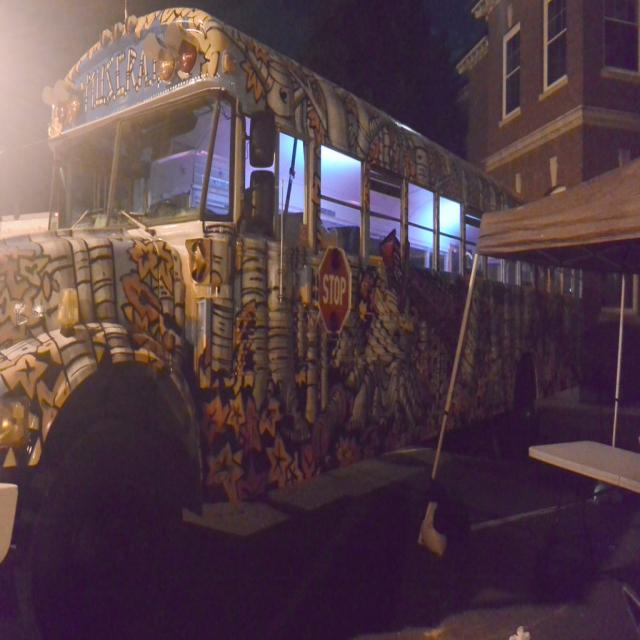Bus: (44, 54, 640, 640)
